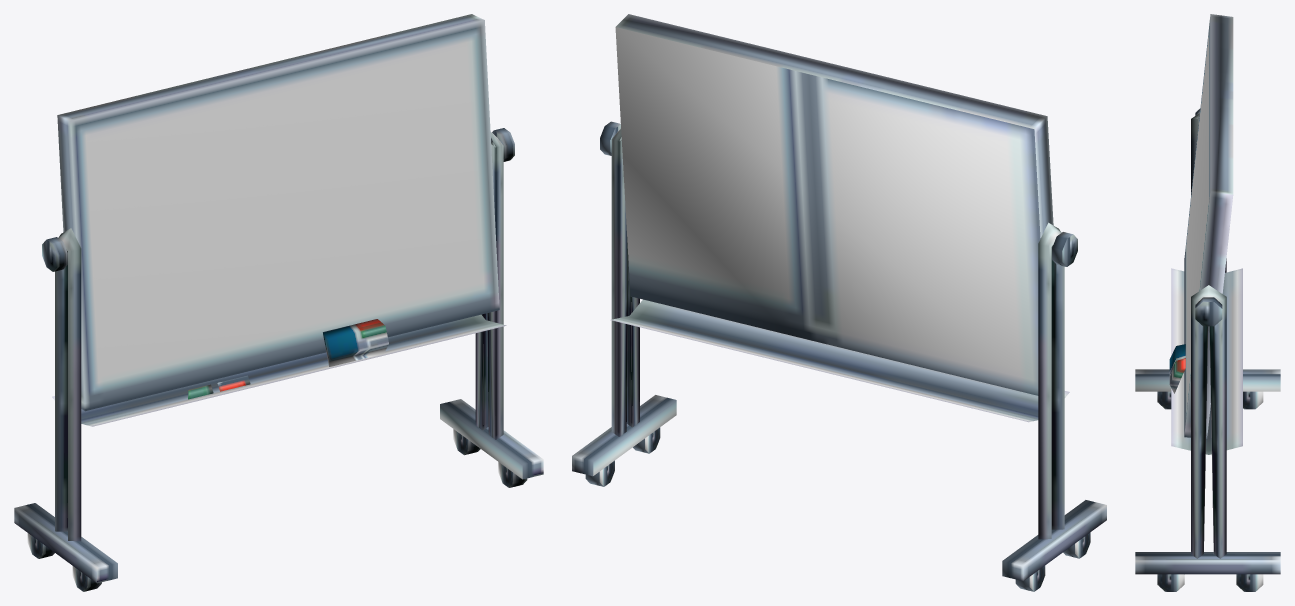
File: rmk_ofc_whiteboard.dae
3 renders of one model, left to right at view 1: azimuth 30°, elevation 25°; view 2: azimuth 150°, elevation 25°; view 3: azimuth 270°, elevation 25°, orthographic. The views are drawn at different scales.
Visible parts, largest first — view 1: rmk_ofc_whiteboard; view 2: rmk_ofc_whiteboard; view 3: rmk_ofc_whiteboard.
Boxes of the visible parts, left/top/right/bottom form: rmk_ofc_whiteboard: left=14, top=14, right=543, bottom=591; rmk_ofc_whiteboard: left=572, top=14, right=1106, bottom=591; rmk_ofc_whiteboard: left=1135, top=14, right=1280, bottom=591.
Bounding box in the file's own units: 56.95 × 53.4 × 17.8.
1 material, 1 textured.
